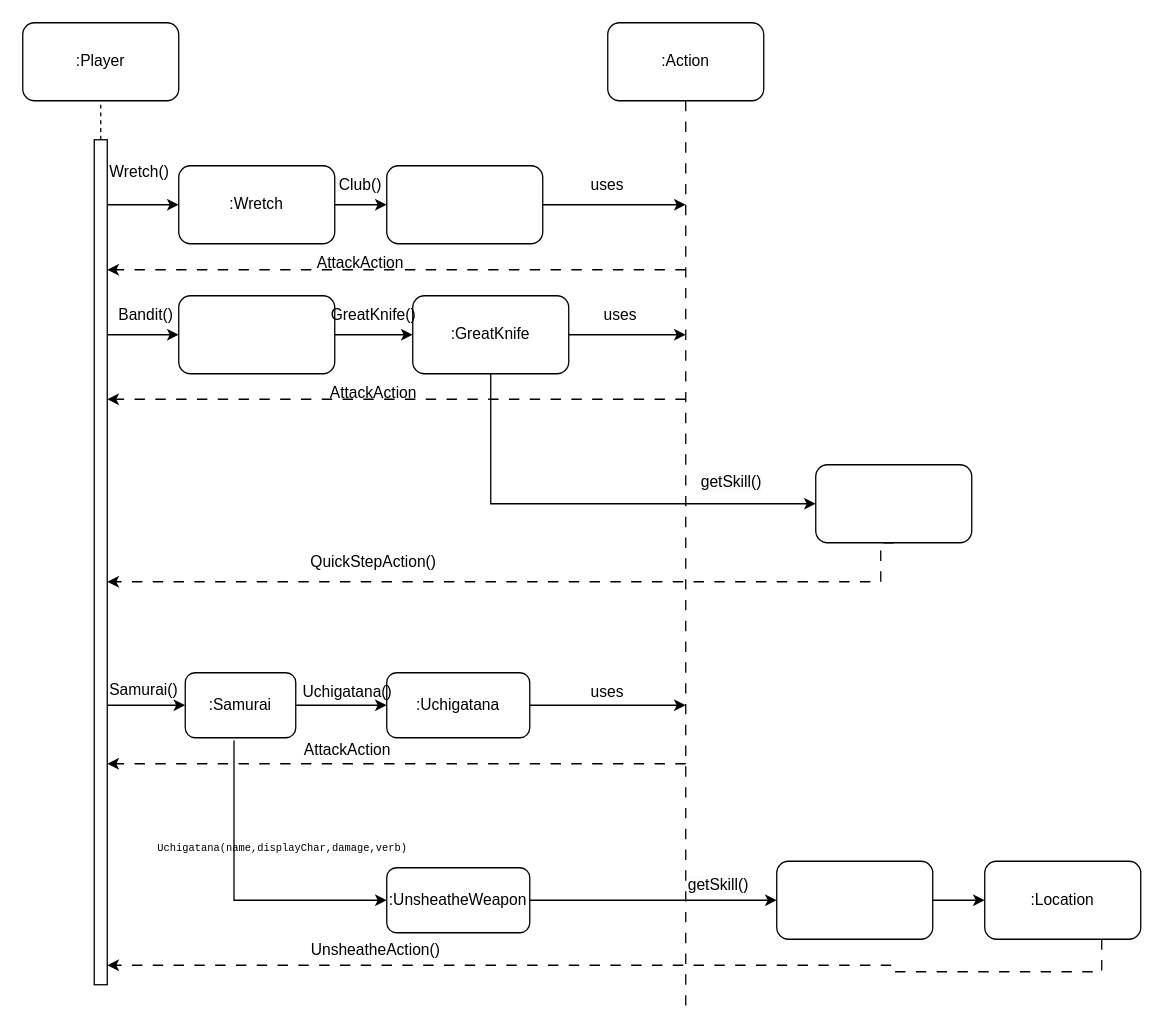
Some shapes in this 1164 by 1035 pixel diagram are drawn without their labels. The centre of each missing label's shape, as x and y in pixels:
":Bandit" goes at point 256,334.
":Club" goes at point 464,204.
":QuickStepAction" goes at point 893,503.
":UnsheatheAction" goes at point 854,899.
